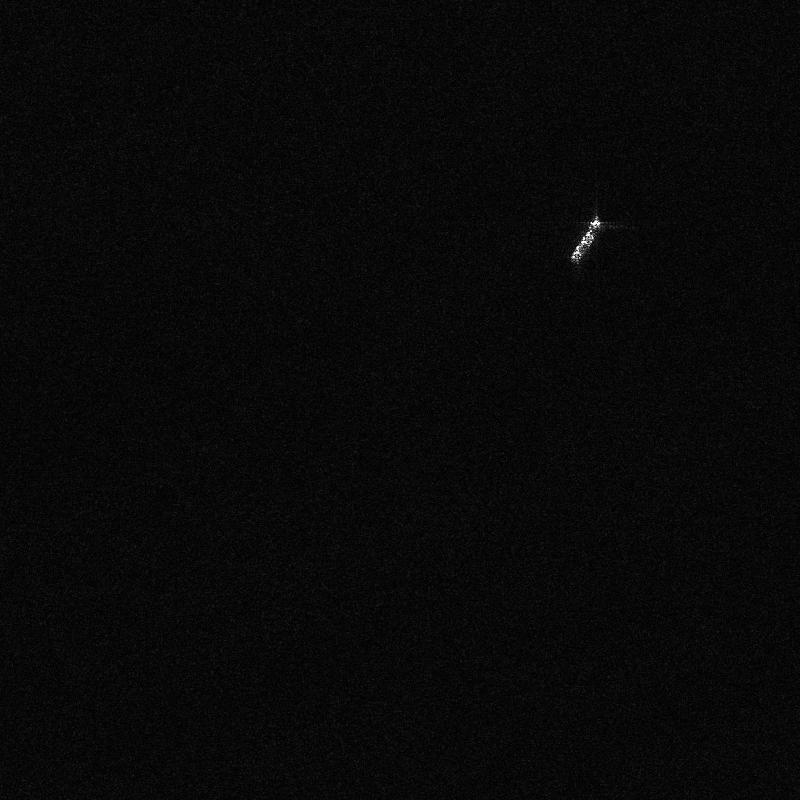ship: (570, 217, 601, 264)
